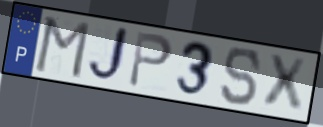3: (173, 39, 219, 99)
J: (85, 24, 132, 86)
M: (32, 15, 93, 81)
P: (126, 29, 175, 90)
S: (219, 46, 263, 107)
X: (262, 53, 309, 115)
